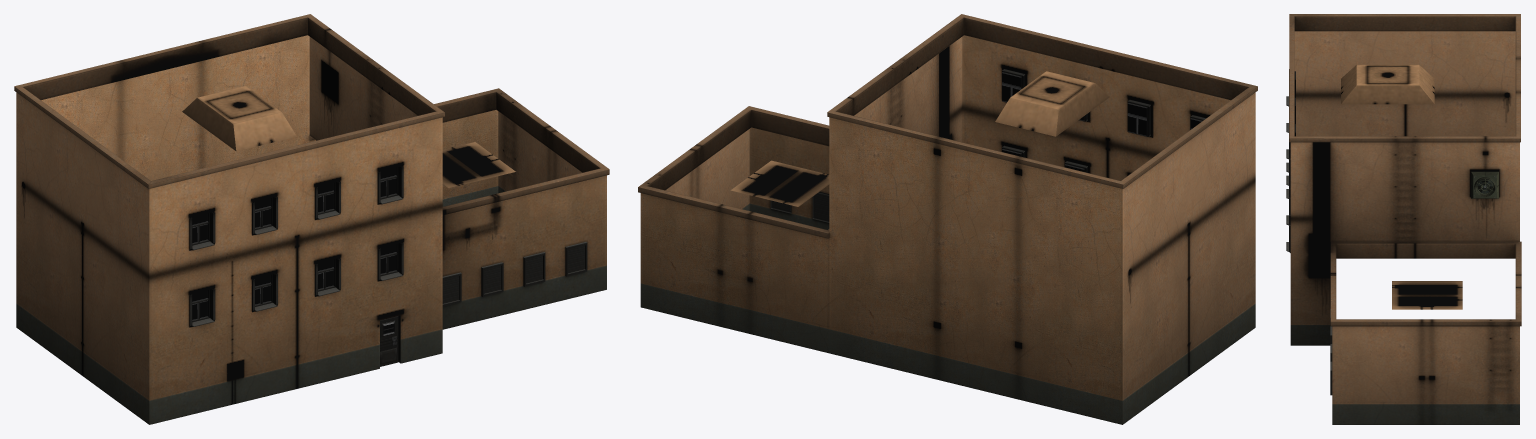
The picture shows the model from 3 angles, left to right: view 1: azimuth 30°, elevation 25°; view 2: azimuth 150°, elevation 25°; view 3: azimuth 270°, elevation 25°; orthographic projection. The views are drawn at different scales.
Parts seen in each view (by area): view 1: Plane, Plane.013, Plane.008, Plane.001, Plane.005, Plane.004, Plane.007, Plane.002, Plane.003, Plane.006, Plane.010, Plane.011 (+2 smaller); view 2: Plane, Plane.006, Plane.008; view 3: Plane, Circle.008.
Part boxes in pixels (x1=…): Plane: x1=14, y1=14, x2=609, y2=424; Plane.013: x1=380, y1=315, x2=400, y2=366; Plane.008: x1=377, y1=166, x2=403, y2=204; Plane.001: x1=377, y1=243, x2=403, y2=281; Plane.005: x1=189, y1=212, x2=215, y2=250; Plane.004: x1=189, y1=289, x2=215, y2=327; Plane.007: x1=315, y1=181, x2=340, y2=219; Plane.002: x1=315, y1=258, x2=340, y2=296; Plane.003: x1=252, y1=273, x2=277, y2=312; Plane.006: x1=252, y1=197, x2=277, y2=235; Plane.010: x1=481, y1=262, x2=503, y2=296; Plane.011: x1=523, y1=252, x2=545, y2=286; Plane: x1=638, y1=14, x2=1257, y2=424; Plane.006: x1=1127, y1=99, x2=1150, y2=136; Plane.008: x1=1002, y1=69, x2=1025, y2=102; Plane: x1=1289, y1=14, x2=1521, y2=424; Circle.008: x1=1471, y1=171, x2=1498, y2=198.
Size of the model in its own units: 23.15 by 11.07 by 11.28.
Materials: 8 (8 with a texture image).
